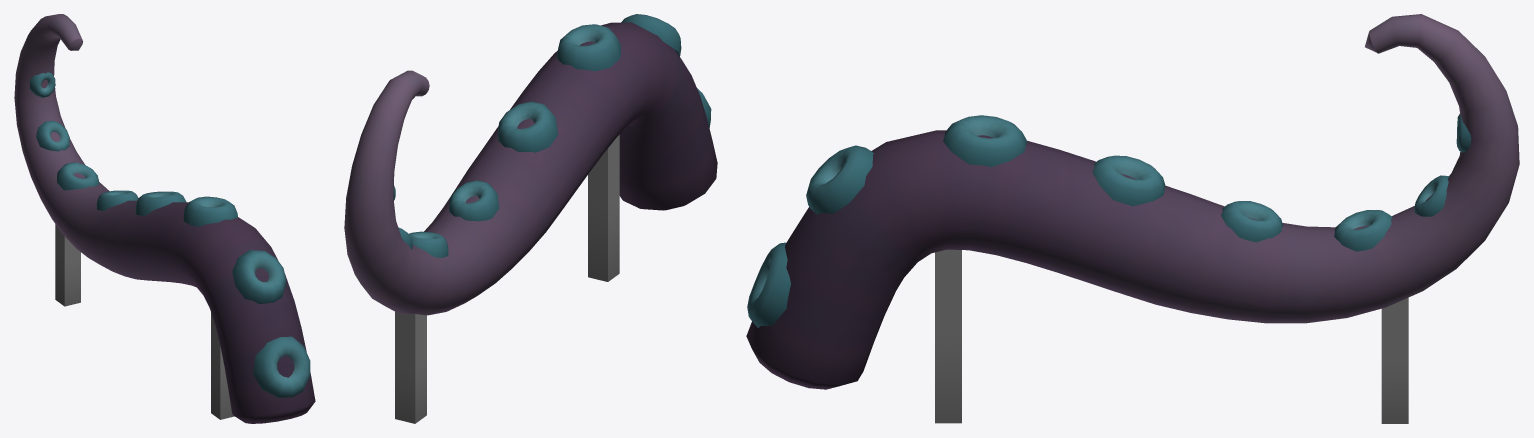
File: OBJ_KrakenTentacle.fbx
3 renders of one model, left to right at view 1: azimuth 30°, elevation 25°; view 2: azimuth 150°, elevation 25°; view 3: azimuth 270°, elevation 25°, orthographic. The views are drawn at different scales.
Parts seen in each view (by area): view 1: OBJ_KrakenTentacle; view 2: OBJ_KrakenTentacle; view 3: OBJ_KrakenTentacle.
Boxes of the visible parts, x1,y1,x2,y2 form: OBJ_KrakenTentacle: (14, 14, 315, 423); OBJ_KrakenTentacle: (344, 14, 717, 423); OBJ_KrakenTentacle: (746, 14, 1519, 423).
Size of the model in its own units: 25.13 by 92.76 by 161.
